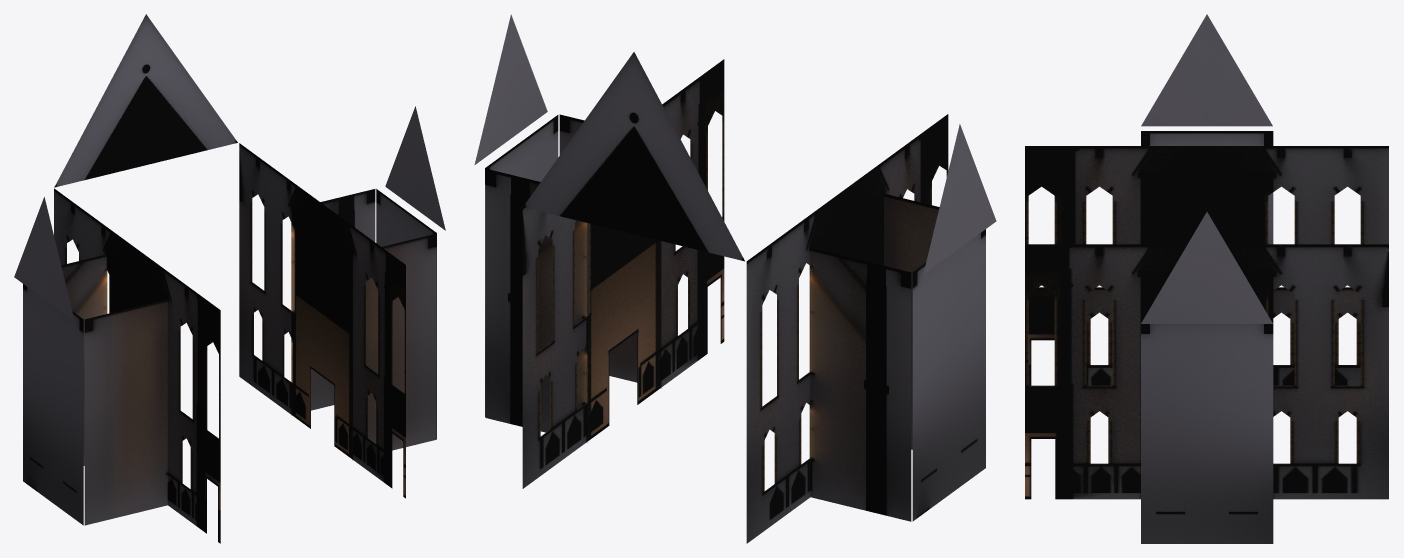
The model's file is main_side_rear_smooth.glb.
3 views of the same model, side by side, from view 1: azimuth 30°, elevation 25°; view 2: azimuth 150°, elevation 25°; view 3: azimuth 270°, elevation 25° (orthographic). The views are drawn at different scales.
Parts seen in each view (by area): view 1: main_side_rear_smooth.001; view 2: main_side_rear_smooth.001; view 3: main_side_rear_smooth.001.
Part boxes in pixels (box(x1,y1,x2,y2)): main_side_rear_smooth.001: box(14, 14, 445, 543); main_side_rear_smooth.001: box(474, 14, 996, 543); main_side_rear_smooth.001: box(1025, 14, 1388, 543).
Size of the model in its own units: 28.25 by 28 by 22.06.
Materials: 1 (1 with a texture image).
